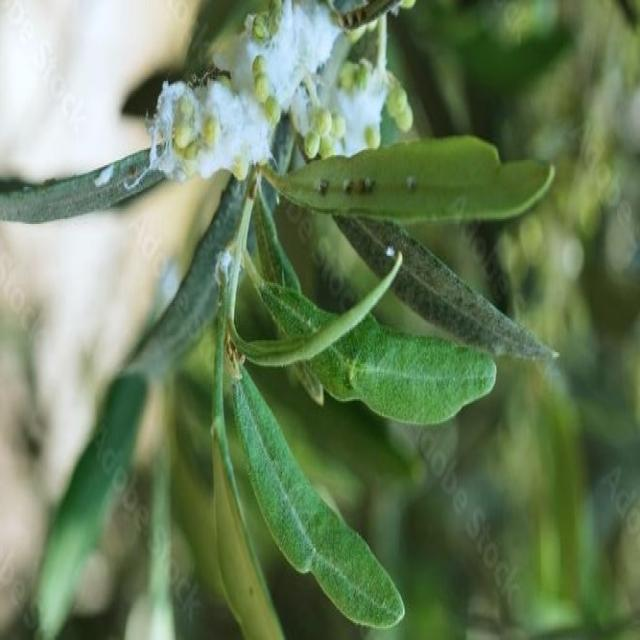Psyllid: (80, 0, 385, 199)
